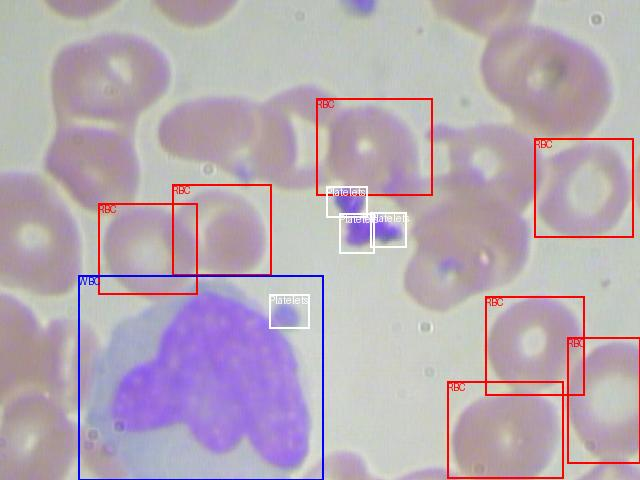Platelets: (339, 213, 374, 253), (269, 294, 309, 328), (326, 186, 367, 217), (370, 212, 406, 247)
RBC: (447, 381, 563, 478), (316, 98, 432, 195), (485, 296, 584, 395), (534, 138, 633, 237), (567, 337, 640, 463), (98, 203, 197, 294), (172, 184, 271, 275)
WBC: (78, 275, 323, 480)
